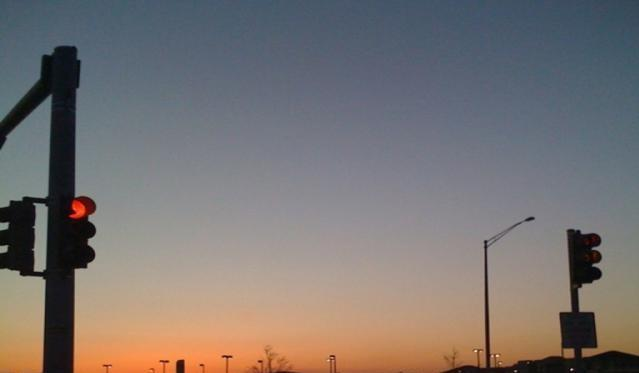red_light: (62, 195, 96, 269)
